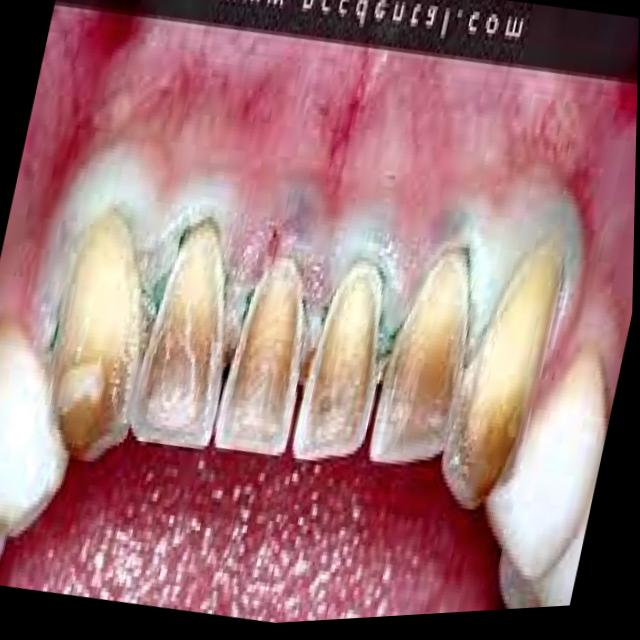tooth-discoloration: (441, 250, 557, 509), (52, 215, 146, 461), (369, 250, 468, 465), (130, 224, 224, 449), (214, 261, 304, 456), (292, 264, 381, 461)
